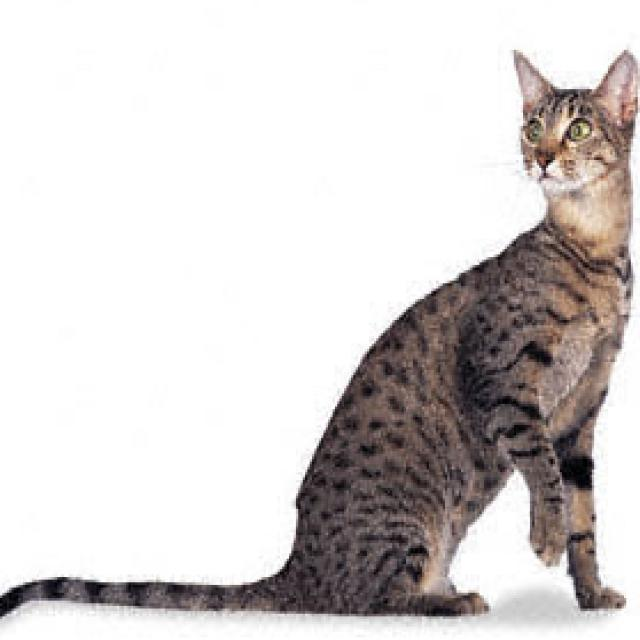Egyptian Mau: (0, 42, 640, 624)
